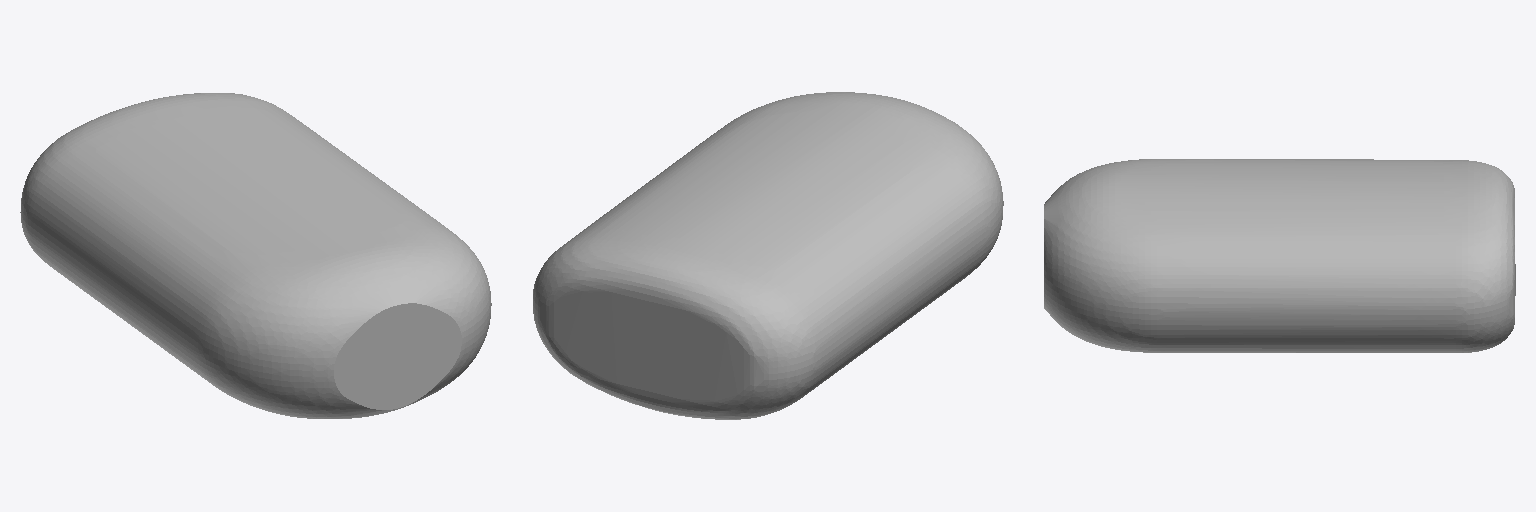
URDF robot description (root):
<robot name="root">
  <link name="link_coacd_convex_piece_0">
    <inertial>
      <origin xyz="0 0 0" rpy="0 0 0"/>
      <inertia ixx="5.72E-08" ixy="-4.55E-11" ixz="-1.35E-11" iyy="1.57E-09" iyz="-9.81E-11" izz="5.74E-08"/>
    </inertial>
    <visual>
      <origin xyz="0 0 0" rpy="0 0 0"/>
      <geometry>
        <mesh filename="coacd_convex_piece_0.obj" scale="1.0000E+00 1.0000E+00 1.0000E+00"/>
      </geometry>
      <material name="">
        <color rgba="7.50E-01 7.50E-01 7.50E-01 1"/>
      </material>
    </visual>
    <collision>
      <origin xyz="0 0 0" rpy="0 0 0"/>
      <geometry>
        <mesh filename="coacd_convex_piece_0.obj" scale="1.0000E+00 1.0000E+00 1.0000E+00"/>
      </geometry>
    </collision>
  </link>
  <link name="link_coacd_convex_piece_1">
    <inertial>
      <origin xyz="0 0 0" rpy="0 0 0"/>
      <inertia ixx="3.15E-07" ixy="-9.54E-11" ixz="-7.35E-10" iyy="1.04E-07" iyz="2.92E-10" izz="3.72E-07"/>
    </inertial>
    <visual>
      <origin xyz="0 0 0" rpy="0 0 0"/>
      <geometry>
        <mesh filename="coacd_convex_piece_1.obj" scale="1.0000E+00 1.0000E+00 1.0000E+00"/>
      </geometry>
      <material name="">
        <color rgba="7.50E-01 7.50E-01 7.50E-01 1"/>
      </material>
    </visual>
    <collision>
      <origin xyz="0 0 0" rpy="0 0 0"/>
      <geometry>
        <mesh filename="coacd_convex_piece_1.obj" scale="1.0000E+00 1.0000E+00 1.0000E+00"/>
      </geometry>
    </collision>
  </link>
  <joint name="link_coacd_convex_piece_1_joint" type="fixed">
    <origin xyz="0 0 0" rpy="0 0 0"/>
    <parent link="link_coacd_convex_piece_0"/>
    <child link="link_coacd_convex_piece_1"/>
  </joint>
</robot>

--- What the picture shows (computed from the rendered views, not written in the file) ---
Views: 3 orthographic renders of the robot side by side, from view 1: azimuth 30°, elevation 25°; view 2: azimuth 150°, elevation 25°; view 3: azimuth 270°, elevation 25°.
Model root with 2 links and 1 joints (1 fixed), rooted at link_coacd_convex_piece_0, posed all joints at 0.
Links seen in each view (by area): view 1: link_coacd_convex_piece_1; view 2: link_coacd_convex_piece_1; view 3: link_coacd_convex_piece_1.
Boxes of the visible links, bbox=[...] form: link_coacd_convex_piece_1: bbox=[20, 93, 491, 418]; link_coacd_convex_piece_1: bbox=[533, 92, 1003, 419]; link_coacd_convex_piece_1: bbox=[1044, 159, 1515, 352].
Size in the robot's own frame: 0.0734 by 0.1197 by 0.0391 metres.
1 mesh visuals loaded from 2 distinct referenced files (1 OBJ); not drawn: 1 (reference not matched to a file when rendering).